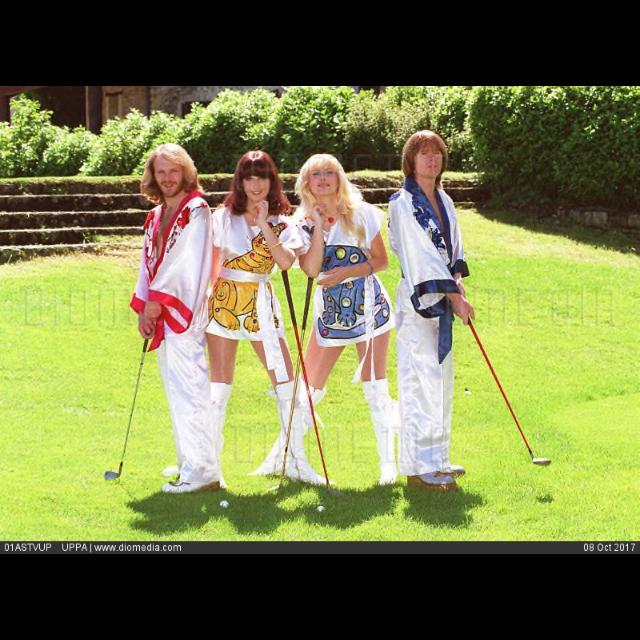head: (404, 130, 446, 180), (237, 152, 275, 204), (152, 146, 188, 198), (304, 154, 344, 196)
person: (388, 128, 556, 494), (180, 149, 340, 496), (245, 152, 403, 492), (100, 142, 224, 496)
